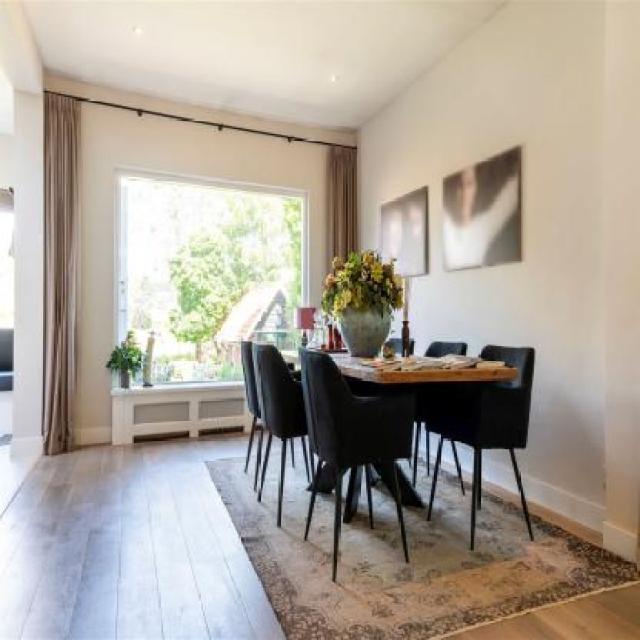floor: (0, 432, 640, 640)
